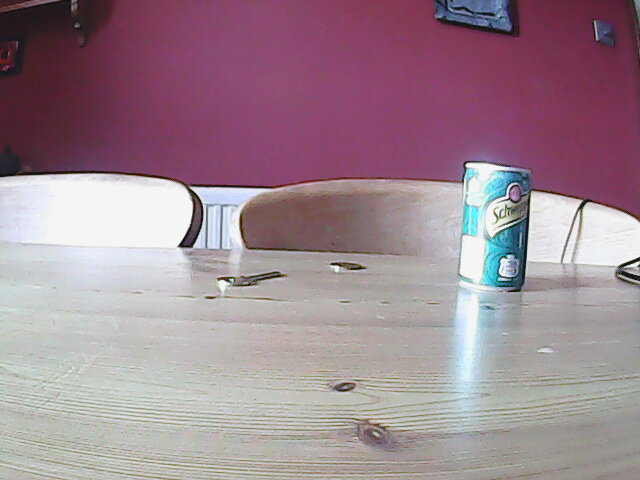Can: (457, 159, 530, 300)
Coin: (328, 259, 365, 274)
Key: (214, 268, 286, 290)
